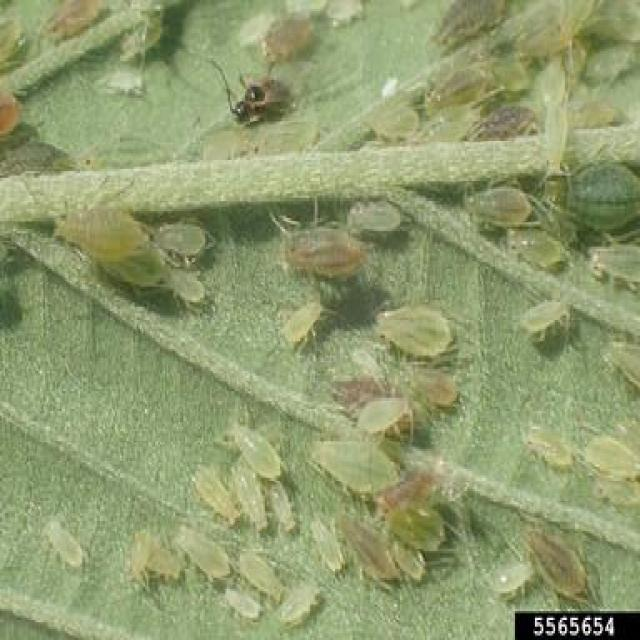Aphid-Grown-: (304, 429, 417, 503), (372, 290, 471, 368), (275, 208, 371, 276), (462, 174, 538, 237), (226, 405, 286, 482), (352, 380, 419, 442), (273, 286, 332, 355), (514, 287, 576, 347), (180, 525, 232, 579), (41, 515, 87, 573)
